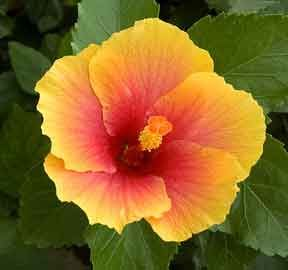Hibiscus: (37, 17, 266, 244)
